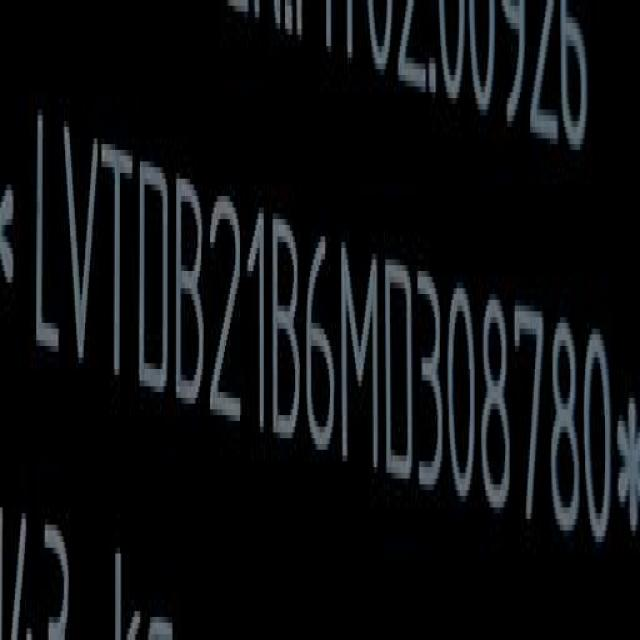0: (584, 327, 616, 547), (448, 278, 478, 507)
1: (247, 202, 266, 443)
2: (208, 191, 243, 434)
4: (415, 250, 444, 500)
6: (304, 224, 337, 462)
7: (517, 296, 545, 534)
8: (480, 290, 510, 513), (550, 314, 579, 540)
B: (176, 172, 207, 417), (272, 208, 301, 442)
D: (136, 153, 169, 408), (387, 247, 418, 490)
L: (36, 107, 65, 370)
M: (343, 238, 381, 475)
T: (102, 130, 134, 396)
V: (64, 117, 101, 381)
